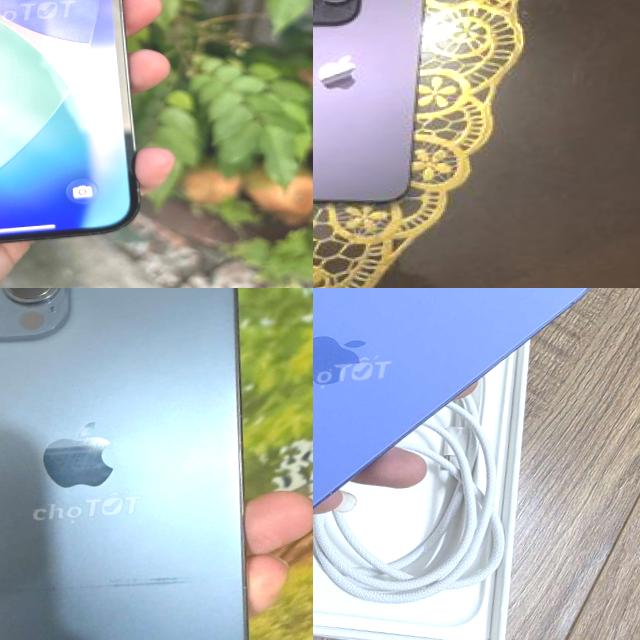scratch: (0, 536, 224, 640)
